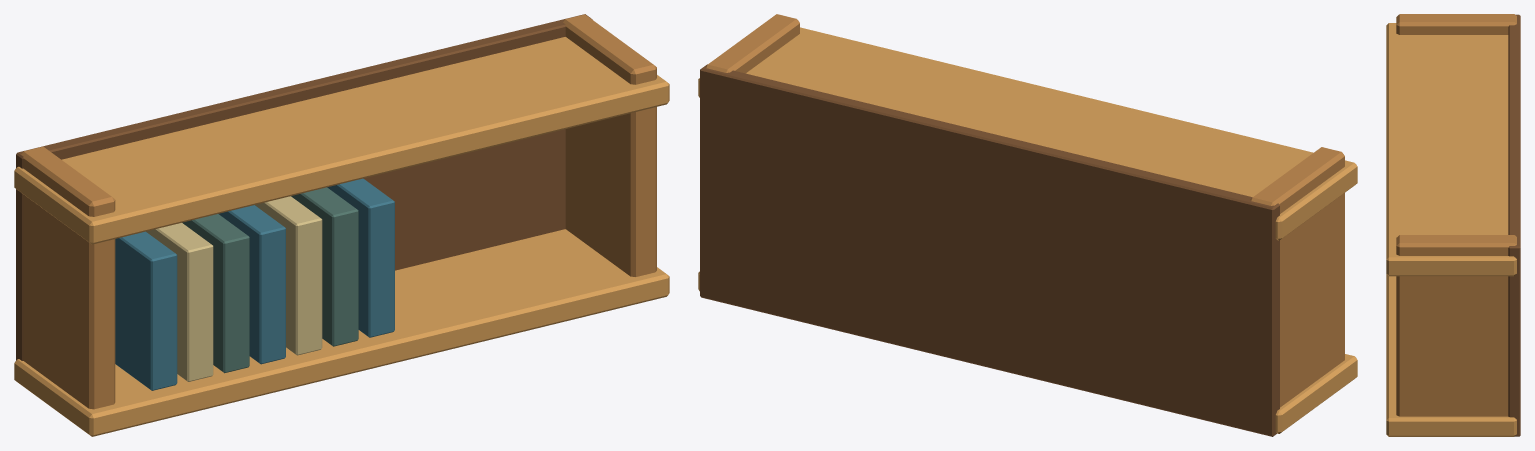
Rendered from wall_shelf.glb.
3 views of the same model, side by side, from view 1: azimuth 30°, elevation 25°; view 2: azimuth 150°, elevation 25°; view 3: azimuth 270°, elevation 25° (orthographic). The views are drawn at different scales.
Parts seen in each view (by area): view 1: wall_shelf__oak_top, wall_shelf__oak, wall_shelf__oak_dark, wall_shelf__book_blue, wall_shelf__book_cream, wall_shelf__book_teal; view 2: wall_shelf__oak_dark, wall_shelf__oak_top, wall_shelf__oak; view 3: wall_shelf__oak_top, wall_shelf__oak, wall_shelf__oak_dark.
Part boxes in pixels (left/top/right/bottom): wall_shelf__oak_top: left=14, top=37, right=669, bottom=436; wall_shelf__oak: left=21, top=14, right=656, bottom=409; wall_shelf__oak_dark: left=16, top=14, right=592, bottom=360; wall_shelf__book_blue: left=115, top=178, right=394, bottom=390; wall_shelf__book_cream: left=146, top=196, right=322, bottom=381; wall_shelf__book_teal: left=182, top=187, right=358, bottom=373; wall_shelf__oak_dark: left=700, top=64, right=1279, bottom=436; wall_shelf__oak_top: left=698, top=27, right=1357, bottom=433; wall_shelf__oak: left=705, top=14, right=1344, bottom=407; wall_shelf__oak_top: left=1386, top=23, right=1516, bottom=436; wall_shelf__oak: left=1396, top=14, right=1516, bottom=416; wall_shelf__oak_dark: left=1508, top=14, right=1520, bottom=436.
Bounding box in the file's own units: 1.2 × 0.455 × 0.2885.
